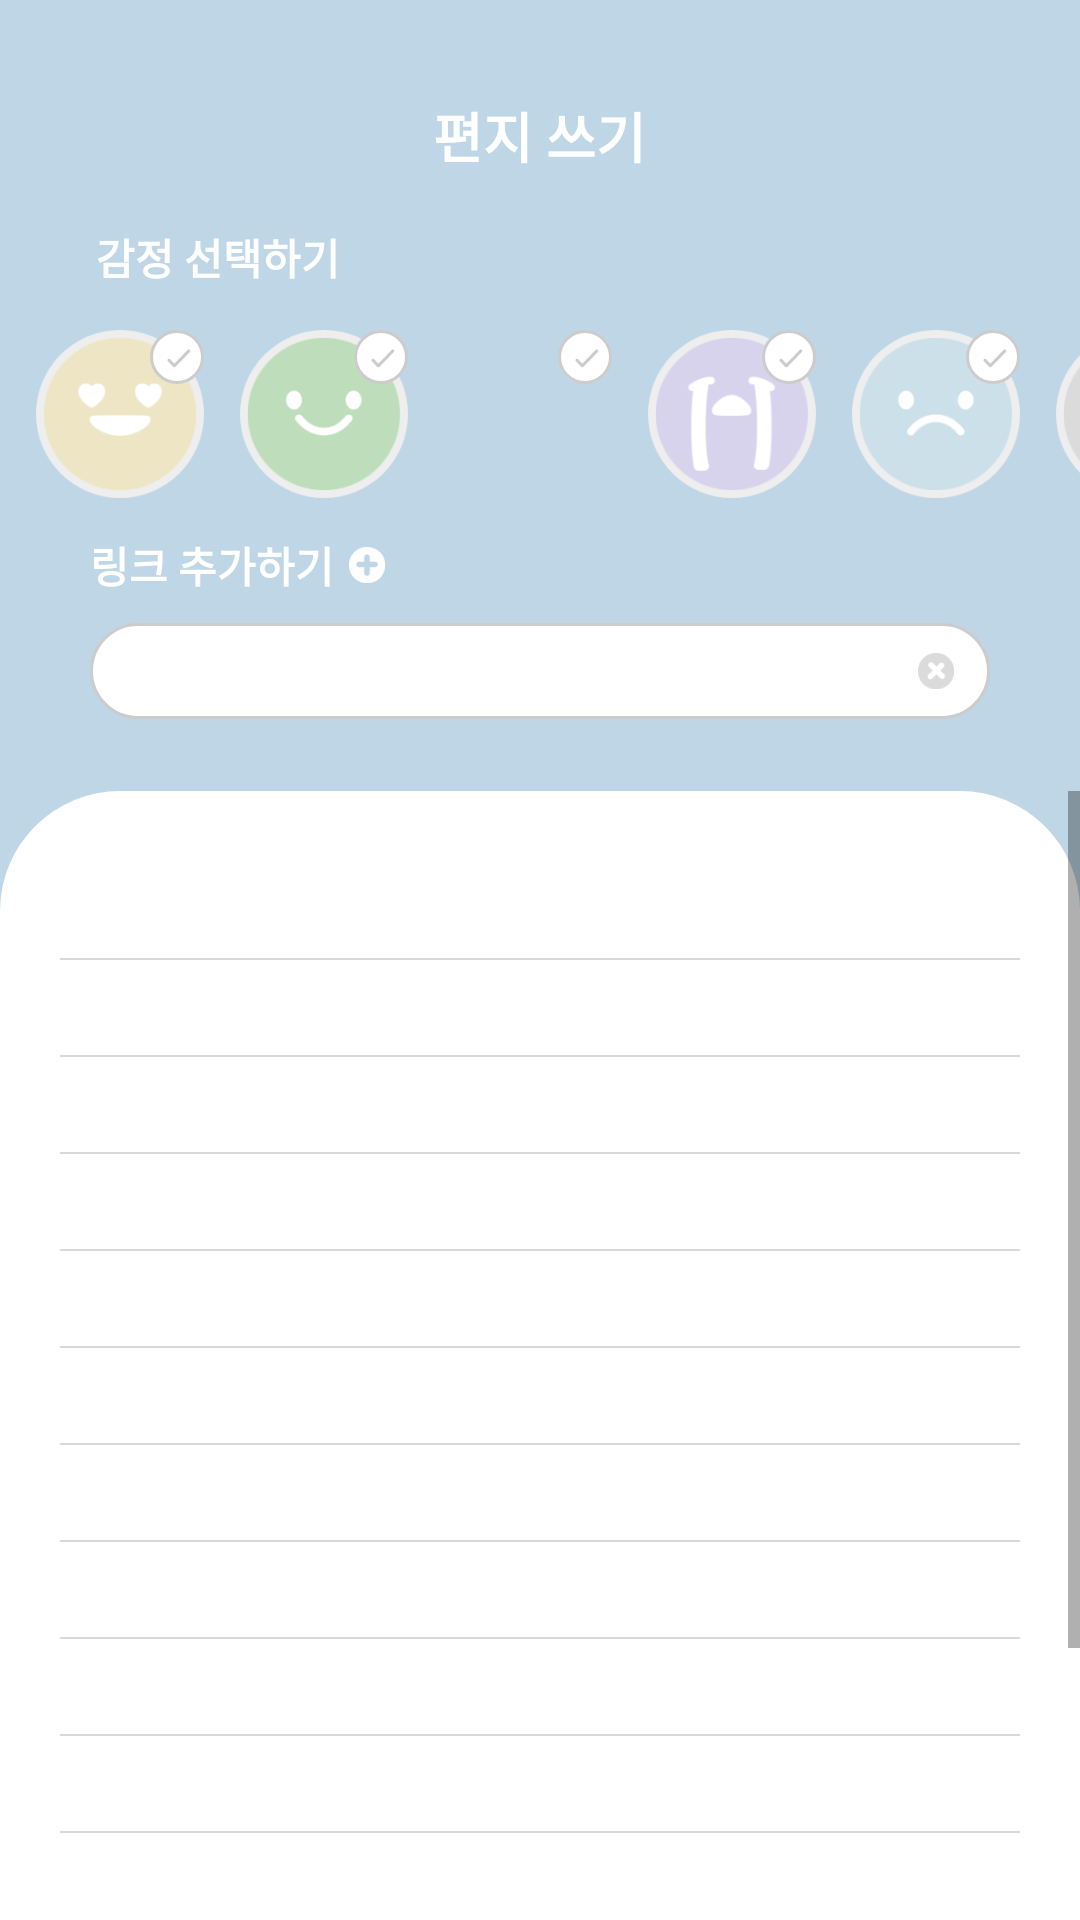

Point at icon controls on the screen. Image size 1080×1920, points as [x,y].
emo diary add: [367,565]
emo diary cry: [732,414]
emo diary good: [324,414]
emo diary happy: [120,414]
emo diary sad: [936,414]
